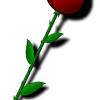rose: (51, 1, 81, 15)
